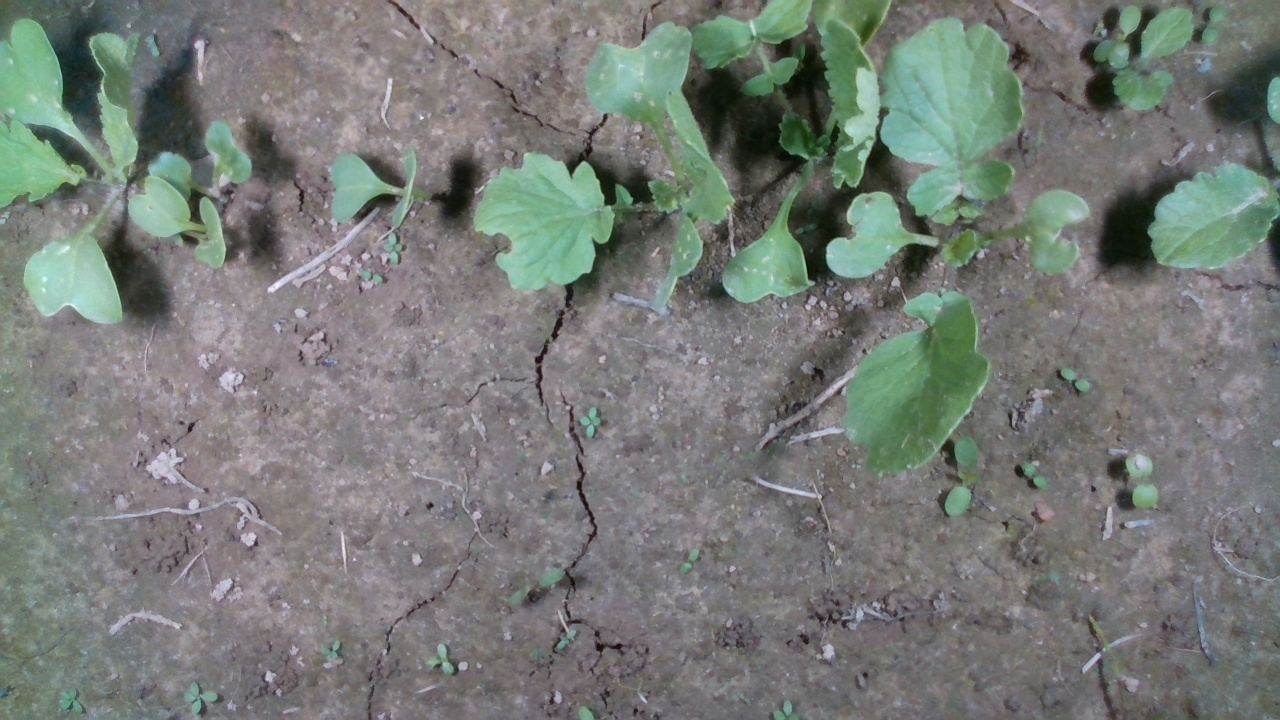weed: (504, 566, 566, 608), (1124, 450, 1160, 512), (180, 679, 220, 717), (424, 641, 456, 677), (1018, 459, 1050, 492), (577, 404, 601, 439), (57, 683, 83, 715), (1059, 367, 1091, 393), (382, 231, 404, 267), (316, 638, 342, 663), (678, 547, 701, 575), (554, 627, 578, 651), (357, 268, 386, 285)
